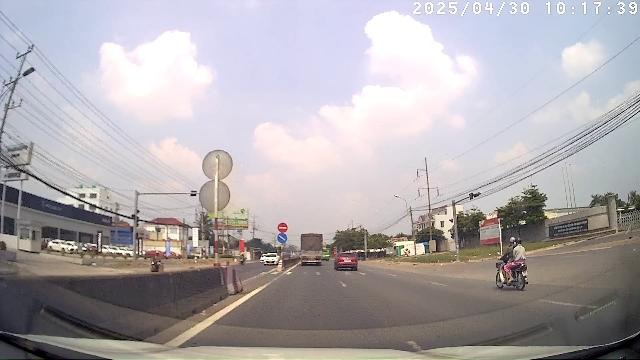102-cam-di-nguoc-chieu: (278, 222, 288, 232)
302a-huong-phai-di-vong-chuong-ngai-vat-1: (278, 233, 288, 243)
